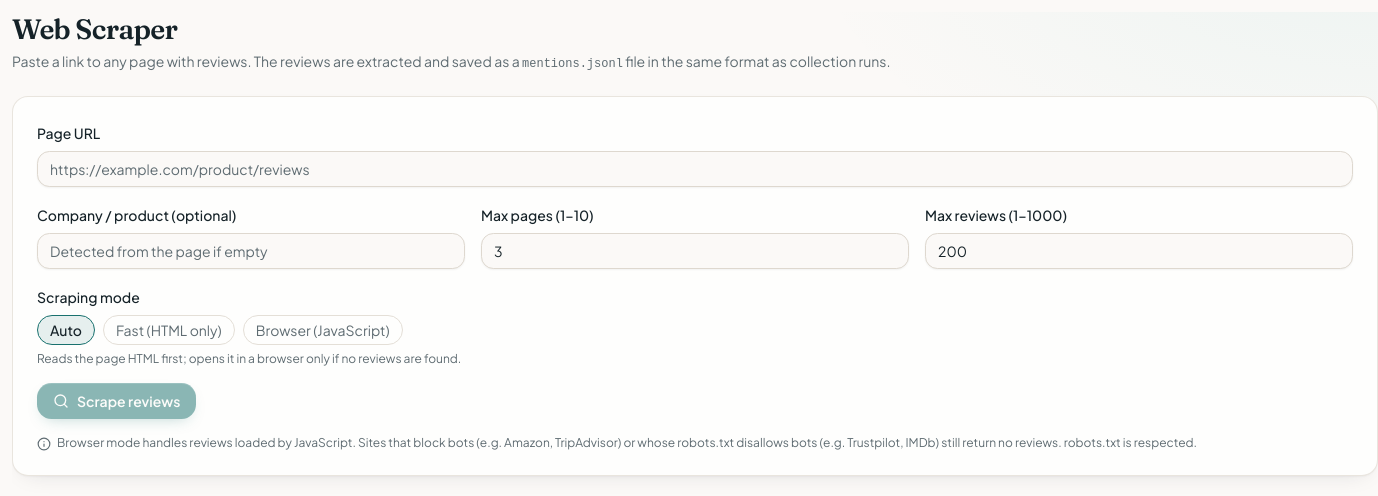
Test: Web Scraper page › disables the button until a valid URL is entered
The image size is (1378, 496).
Check: the button with test id "scrape-submit" is disabled, box [37,383,196,419]
In the field with test id "scrape-url": (695, 169) [37,151,1353,187], type "https://hotel.example/reviews"
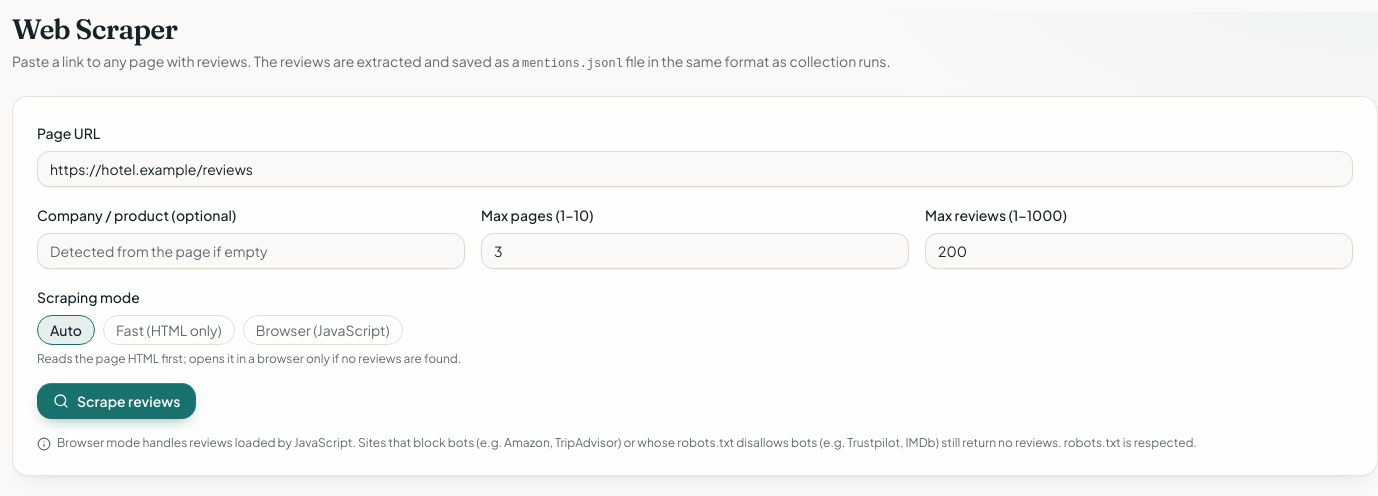
Check: the button with test id "scrape-submit" is enabled, box [37,383,196,419]
